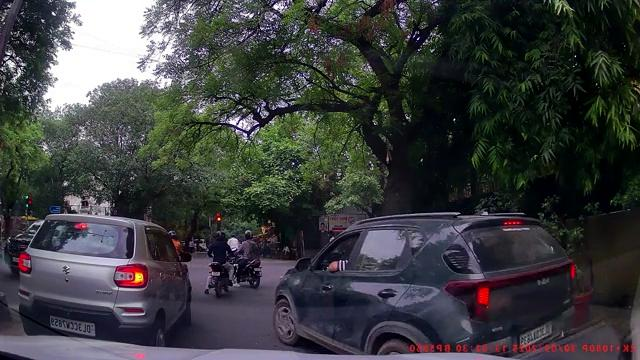motorcycle_with_helmet: (205, 229, 234, 298), (233, 229, 263, 289)
